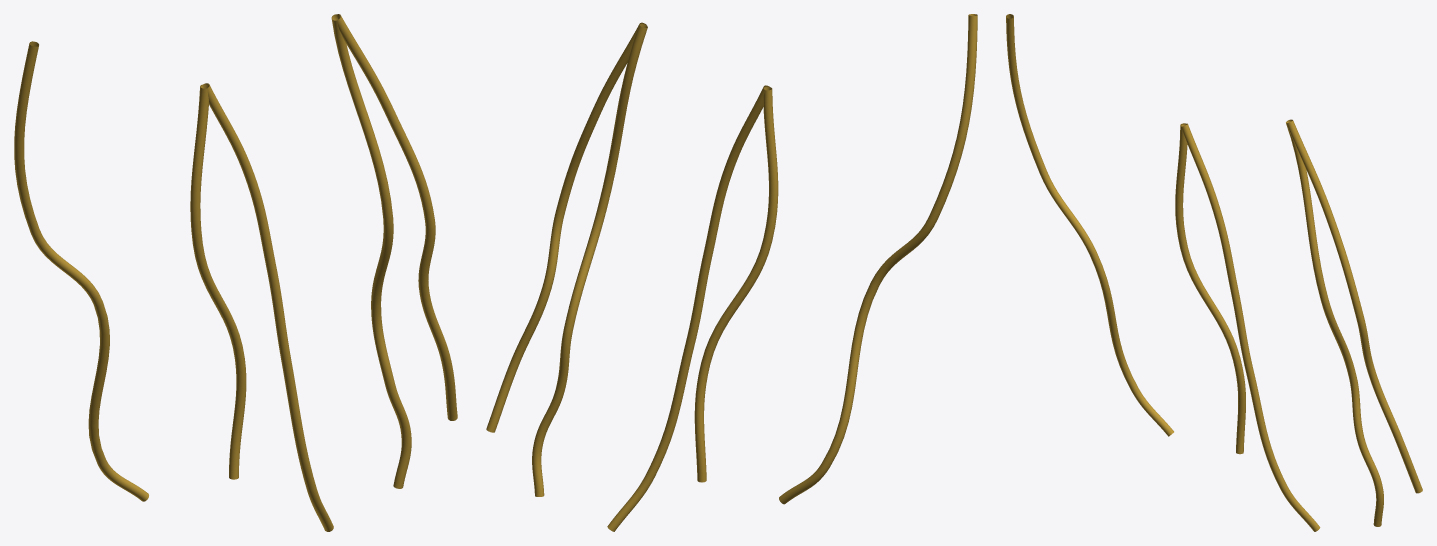
3 views of the same model, side by side, from view 1: azimuth 30°, elevation 25°; view 2: azimuth 150°, elevation 25°; view 3: azimuth 330°, elevation 25° (orthographic). The views are drawn at different scales.
Parts seen in each view (by area): view 1: 左侧足底内侧神经趾足底固有神经; view 2: 左侧足底内侧神经趾足底固有神经; view 3: 左侧足底内侧神经趾足底固有神经.
Part boxes in pixels (box(x1,y1,x2,y2)): 左侧足底内侧神经趾足底固有神经: box(14, 14, 457, 531); 左侧足底内侧神经趾足底固有神经: box(486, 14, 977, 531); 左侧足底内侧神经趾足底固有神经: box(1006, 14, 1422, 531).
Bounding box in the file's own units: 0.0816 × 0.098 × 0.0165.
